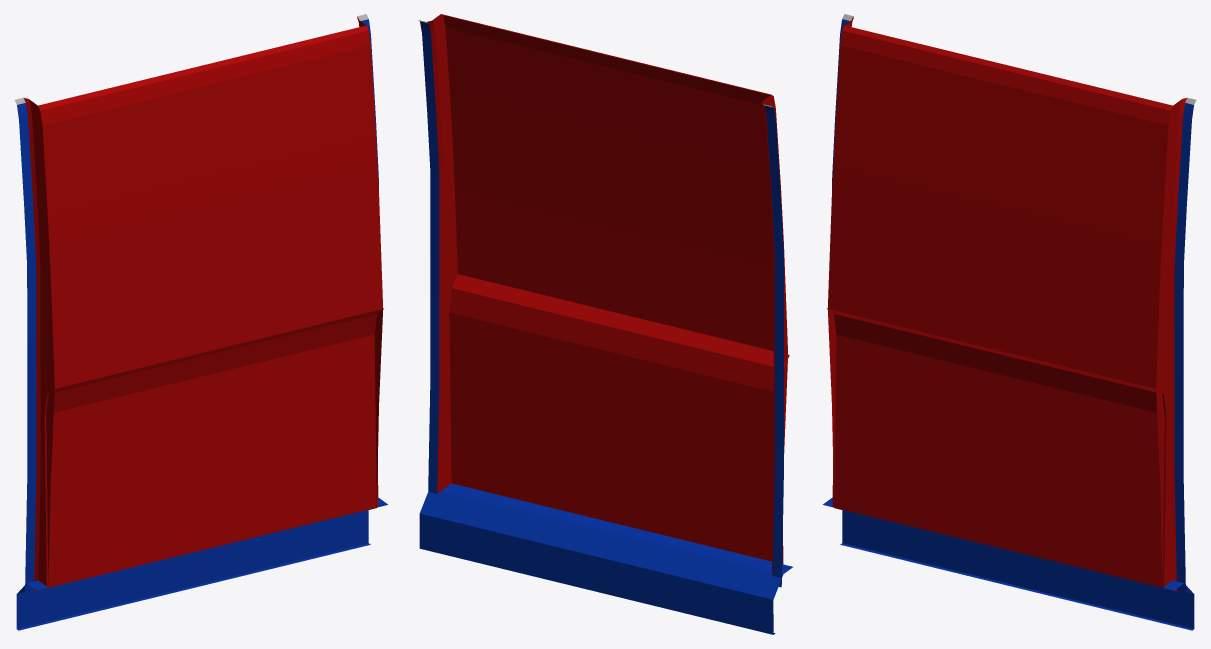
Rendered from Asset_murint_simple.fbx.
The picture shows the model from 3 angles, left to right: view 1: azimuth 30°, elevation 25°; view 2: azimuth 150°, elevation 25°; view 3: azimuth 330°, elevation 25°; orthographic projection.
Parts seen in each view (by area): view 1: murint4x4_simple5; view 2: murint4x4_simple5; view 3: murint4x4_simple5.
Part boxes in pixels (<box>): murint4x4_simple5: <box>14,14,387,630</box>; murint4x4_simple5: <box>418,14,792,634</box>; murint4x4_simple5: <box>823,14,1196,630</box>.
Size of the model in its own units: 200 by 286 by 28.1.
